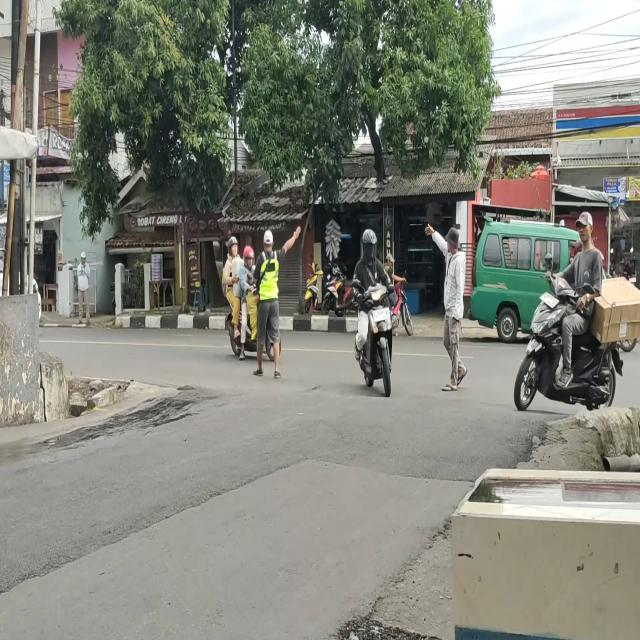helmet: (361, 231, 378, 262), (224, 237, 240, 258), (242, 246, 255, 270)
no-helmet: (575, 210, 594, 248)
